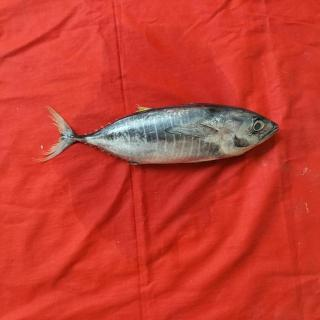Ikan: (42, 98, 295, 186)
